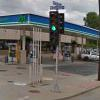Traffic light: (41, 7, 70, 60)
